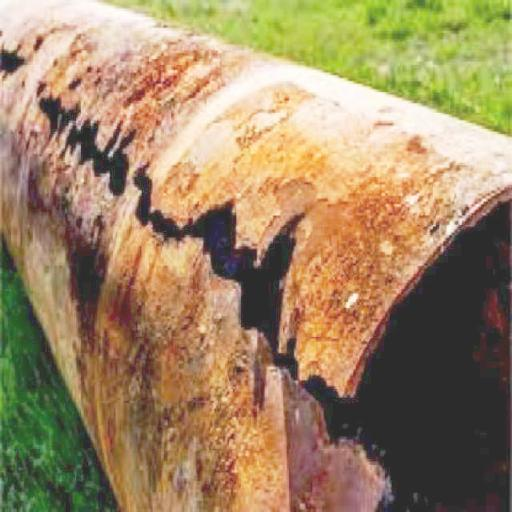corrosion: (10, 192, 126, 470), (296, 148, 426, 303), (80, 28, 230, 117)
crack: (28, 61, 375, 317), (220, 310, 406, 509)
